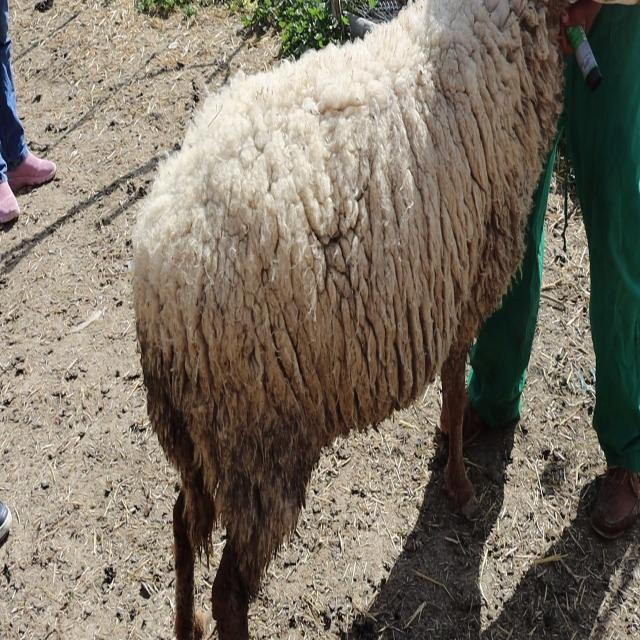Score_5: (133, 0, 563, 639)
